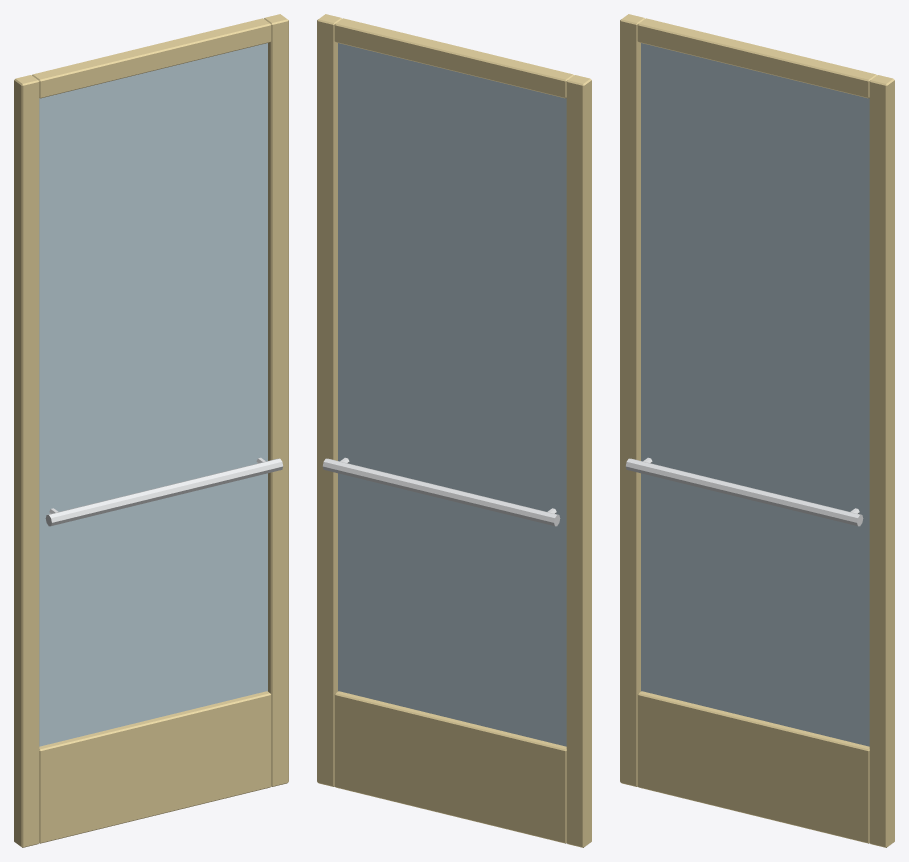
Rendered from door_leaf_glass.glb.
The picture shows the model from 3 angles, left to right: view 1: azimuth 30°, elevation 25°; view 2: azimuth 150°, elevation 25°; view 3: azimuth 330°, elevation 25°; orthographic projection.
Parts seen in each view (by area): view 1: door_leaf_glass_glass, door_leaf_glass_gold, door_leaf_glass_chrome; view 2: door_leaf_glass_glass, door_leaf_glass_gold, door_leaf_glass_chrome; view 3: door_leaf_glass_glass, door_leaf_glass_gold, door_leaf_glass_chrome.
Boxes of the visible parts, bbox=[...] form: door_leaf_glass_glass: bbox=[39, 43, 267, 746]; door_leaf_glass_gold: bbox=[14, 14, 288, 847]; door_leaf_glass_chrome: bbox=[45, 457, 283, 526]; door_leaf_glass_glass: bbox=[338, 43, 566, 746]; door_leaf_glass_gold: bbox=[317, 14, 591, 847]; door_leaf_glass_chrome: bbox=[322, 457, 560, 526]; door_leaf_glass_glass: bbox=[641, 43, 869, 746]; door_leaf_glass_gold: bbox=[620, 14, 894, 847]; door_leaf_glass_chrome: bbox=[625, 457, 863, 526].
Bounding box in the file's own units: 0.89 × 2.43 × 0.186.
